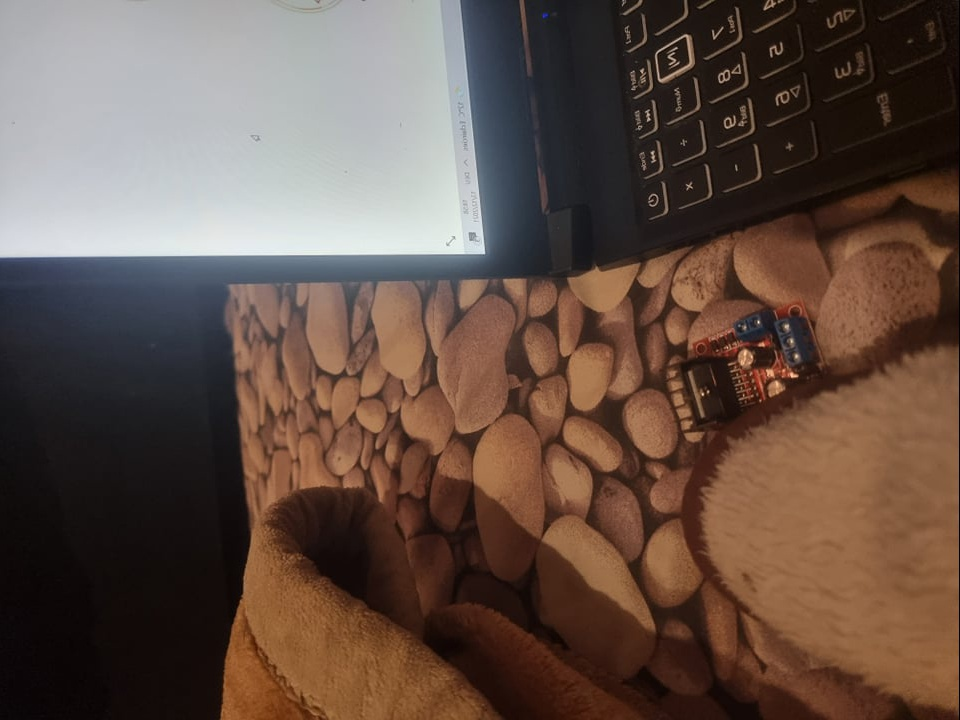MOTOR: (667, 297, 822, 438)
